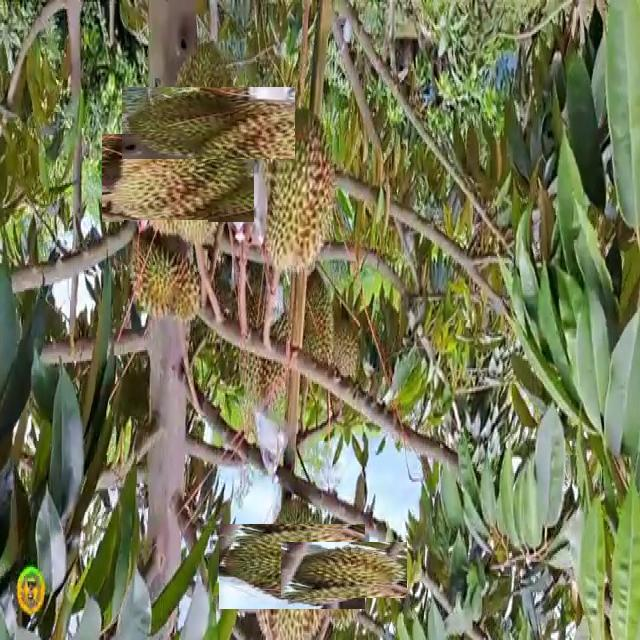durian: (147, 62, 269, 184), (118, 118, 239, 238), (257, 104, 338, 276), (234, 509, 349, 624), (124, 220, 208, 324), (298, 524, 389, 615)
